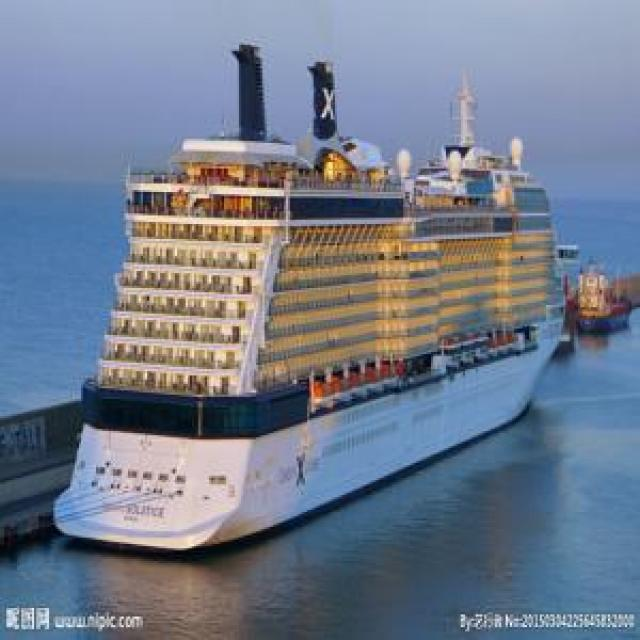passenger ship: (40, 35, 588, 573)
